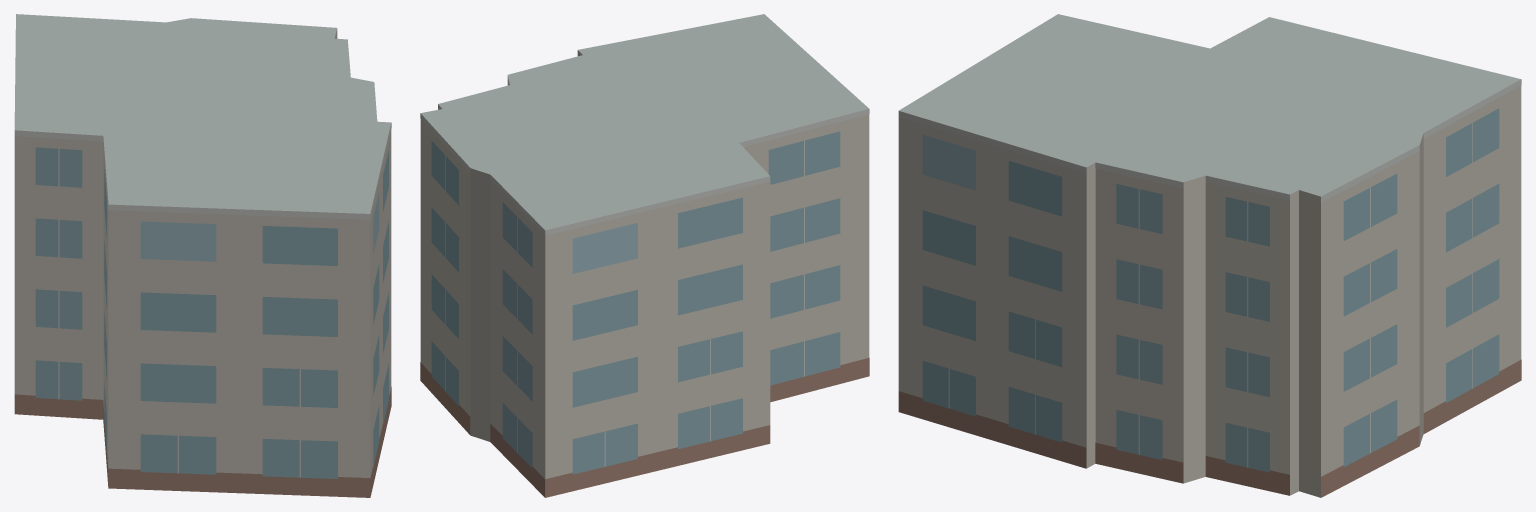
File: survey-upis-32647118.glb
3 views of the same model, side by side, from view 1: azimuth 30°, elevation 25°; view 2: azimuth 150°, elevation 25°; view 3: azimuth 270°, elevation 25° (orthographic). The views are drawn at different scales.
Parts seen in each view (by area): view 1: survey-upis-32647118.tmp; view 2: survey-upis-32647118.tmp; view 3: survey-upis-32647118.tmp.
Part boxes in pixels (x1,y1,x2,y2): survey-upis-32647118.tmp: [14, 14, 391, 497]; survey-upis-32647118.tmp: [420, 14, 869, 497]; survey-upis-32647118.tmp: [898, 14, 1521, 497].
Size of the model in its own units: 15.87 by 12.2 by 22.87.
